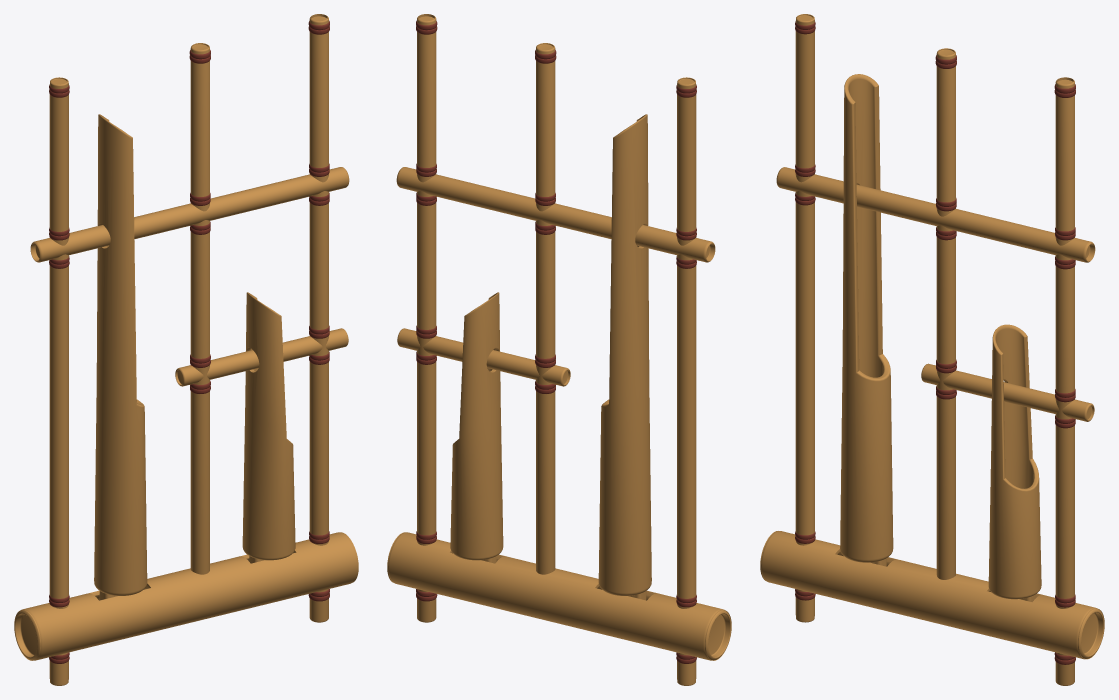
File: Angklung.fbx
3 views of the same model, side by side, from view 1: azimuth 30°, elevation 25°; view 2: azimuth 150°, elevation 25°; view 3: azimuth 330°, elevation 25° (orthographic).
Parts seen in each view (by area): view 1: Cylinder.003, Cylinder.001, Cylinder.006, Cylinder.005, Cylinder.004, Cylinder.007, Cylinder.008, Cylinder.009, Cylinder.022, Cylinder.018; view 2: Cylinder.003, Cylinder.001, Cylinder.006, Cylinder.005, Cylinder.004, Cylinder.007, Cylinder.008, Cylinder.009, Cylinder.022, Cylinder.018; view 3: Cylinder.003, Cylinder.001, Cylinder.006, Cylinder.005, Cylinder.004, Cylinder.007, Cylinder.008, Cylinder.009, Cylinder.022, Cylinder.018.
Part boxes in pixels (bbox=[...]): Cylinder.003: bbox=[94, 114, 295, 600]; Cylinder.001: bbox=[14, 532, 358, 660]; Cylinder.006: bbox=[49, 77, 68, 685]; Cylinder.005: bbox=[309, 14, 328, 622]; Cylinder.004: bbox=[190, 43, 209, 574]; Cylinder.007: bbox=[30, 167, 349, 262]; Cylinder.008: bbox=[175, 328, 348, 386]; Cylinder.009: bbox=[308, 20, 329, 543]; Cylinder.022: bbox=[189, 50, 210, 393]; Cylinder.018: bbox=[49, 85, 69, 663]; Cylinder.003: bbox=[450, 114, 651, 600]; Cylinder.001: bbox=[387, 532, 731, 660]; Cylinder.006: bbox=[677, 77, 696, 685]; Cylinder.005: bbox=[417, 14, 436, 622]; Cylinder.004: bbox=[536, 43, 555, 574]; Cylinder.007: bbox=[396, 167, 715, 262]; Cylinder.008: bbox=[397, 328, 570, 386]; Cylinder.009: bbox=[416, 20, 437, 543]; Cylinder.022: bbox=[535, 50, 556, 393]; Cylinder.018: bbox=[676, 85, 696, 663]; Cylinder.003: bbox=[840, 74, 1041, 601]; Cylinder.001: bbox=[760, 531, 1104, 659]; Cylinder.006: bbox=[795, 14, 814, 622]; Cylinder.005: bbox=[1055, 77, 1074, 685]; Cylinder.004: bbox=[936, 48, 955, 579]; Cylinder.007: bbox=[776, 167, 1095, 262]; Cylinder.008: bbox=[921, 363, 1094, 421]; Cylinder.009: bbox=[1054, 84, 1075, 607]; Cylinder.022: bbox=[935, 55, 956, 399]; Cylinder.018: bbox=[795, 21, 815, 600].
Bounding box in the file's own units: 93.07 × 167 × 15.07.
